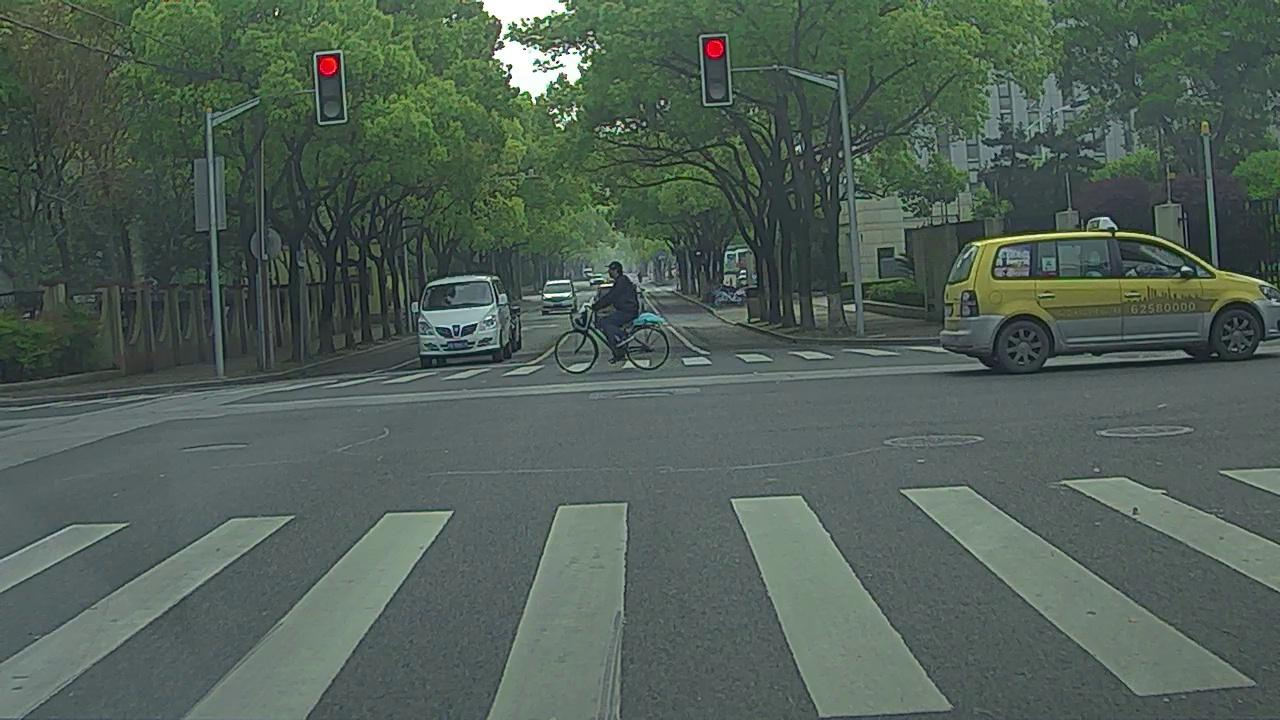traffic_light: (316, 54, 345, 121), (702, 37, 730, 103)
